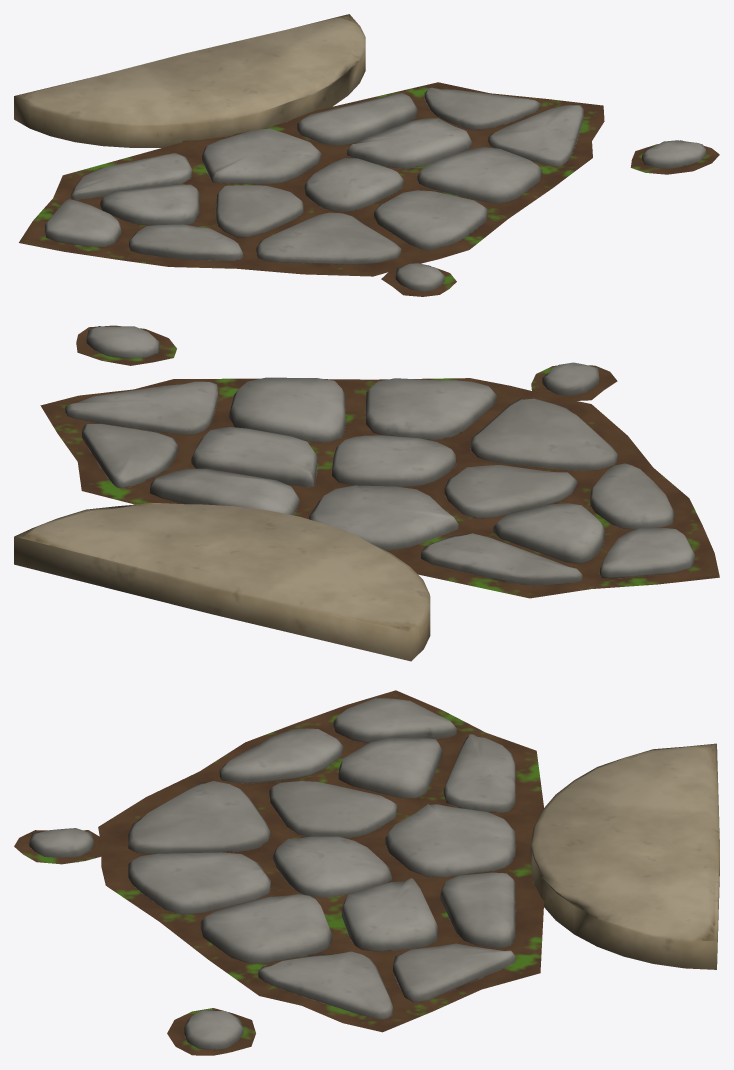
The model's file is stepping_stones_a.glb.
3 renders of one model, top to bottom at view 1: azimuth 30°, elevation 25°; view 2: azimuth 150°, elevation 25°; view 3: azimuth 270°, elevation 25°, orthographic. The views are drawn at different scales.
Parts seen in each view (by area): view 1: stepping_stones_a; view 2: stepping_stones_a; view 3: stepping_stones_a.
Part boxes in pixels (bbox=[...]): stepping_stones_a: bbox=[14, 14, 719, 296]; stepping_stones_a: bbox=[14, 325, 719, 661]; stepping_stones_a: bbox=[14, 690, 719, 1055].
Size of the model in its own units: 2.87 by 0.126 by 2.35.
Materials: 1 (1 with a texture image).
